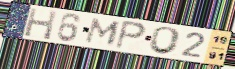2: (179, 32, 207, 60)
6: (56, 12, 82, 43)
H: (23, 7, 59, 42)
M: (83, 17, 123, 47)
O: (147, 26, 183, 56)
P: (113, 19, 149, 51)
